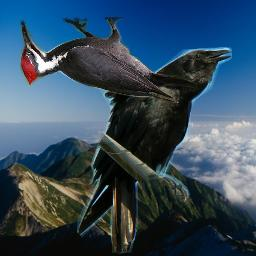Crow: (77, 47, 232, 255)
Woodpecker: (20, 17, 197, 103)
